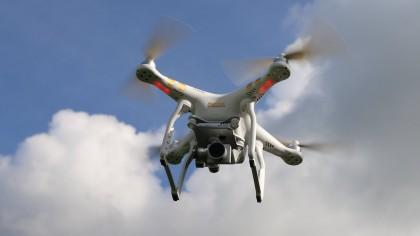drone: (113, 39, 329, 187)
